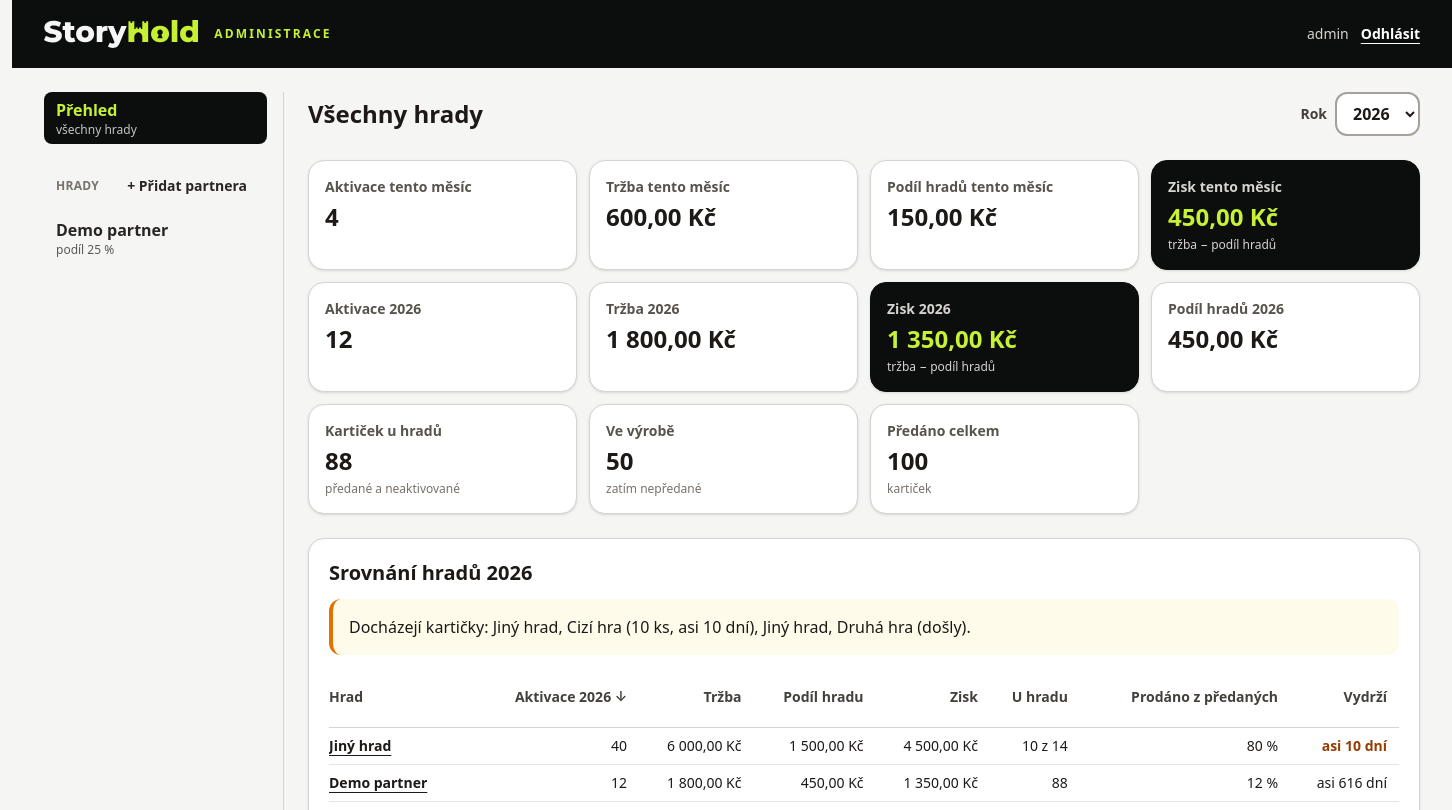
Scenario: AdminPage — operator › lists castles in the left menu and opens one
The image size is (1452, 810).
Step 1. Click the link "Demo partner podíl 25 %" → coordinates (112, 238), box [56,219,168,258]
(page scrolled)
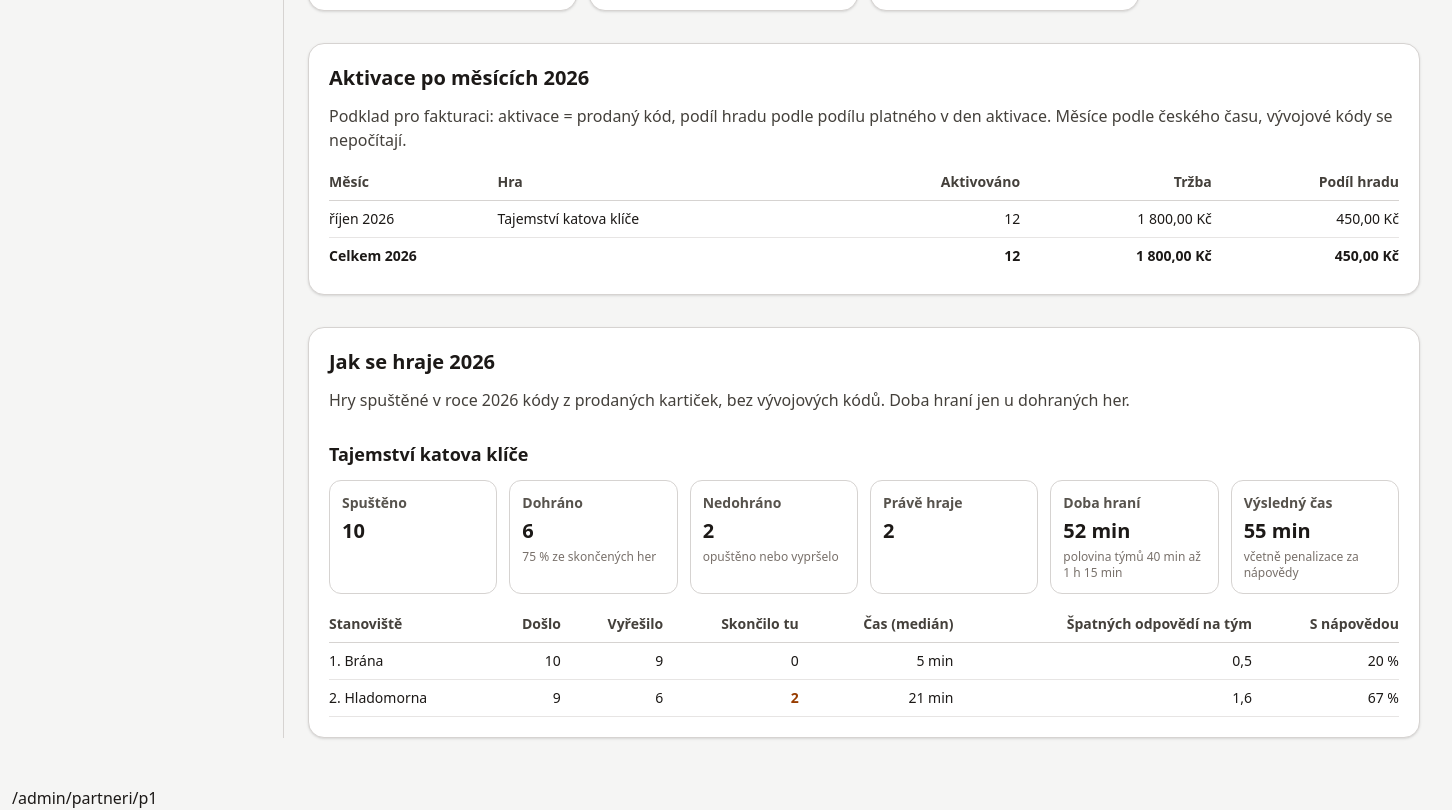
Result: the text with test id "url" reads "/admin/partneri/p1" at [12,787,158,809]
